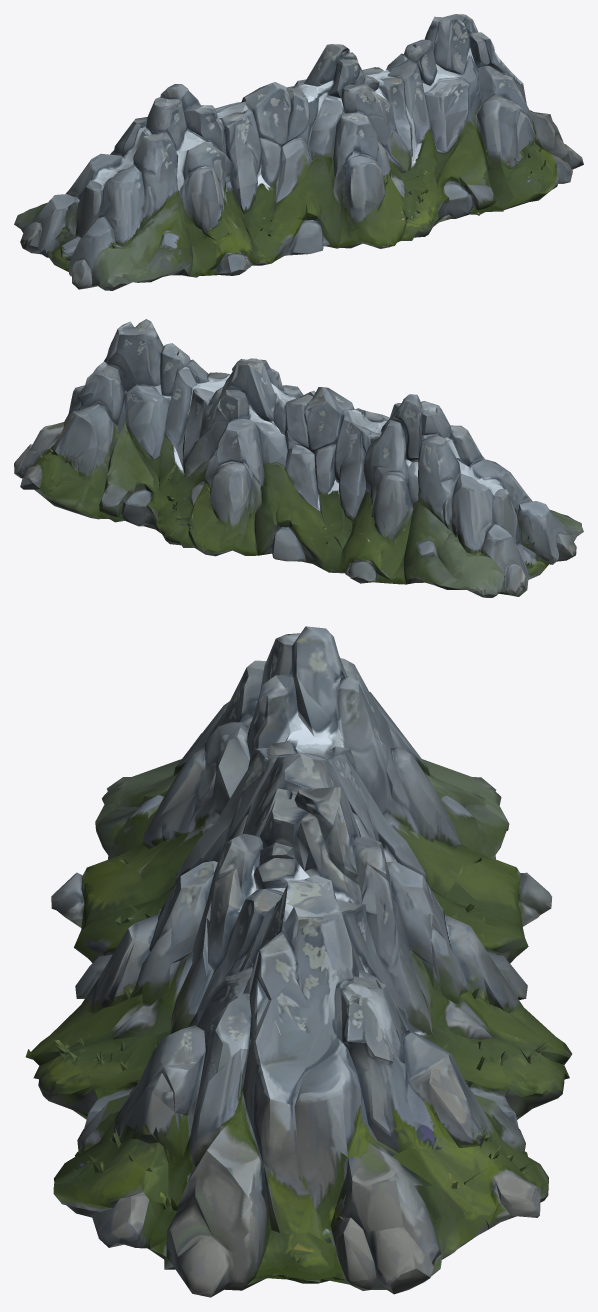
3 views of the same model, one above another, from view 1: azimuth 30°, elevation 25°; view 2: azimuth 150°, elevation 25°; view 3: azimuth 270°, elevation 25° (orthographic). The views are drawn at different scales.
Parts seen in each view (by area): view 1: mountain_ridge; view 2: mountain_ridge; view 3: mountain_ridge.
Boxes of the visible parts, x1,y1,x2,y2 form: mountain_ridge: (14, 14, 583, 290); mountain_ridge: (14, 319, 583, 597); mountain_ridge: (25, 626, 572, 1297).
Size of the model in its own units: 0.9789 by 0.2915 by 0.4553.
Materials: 1 (1 with a texture image).
